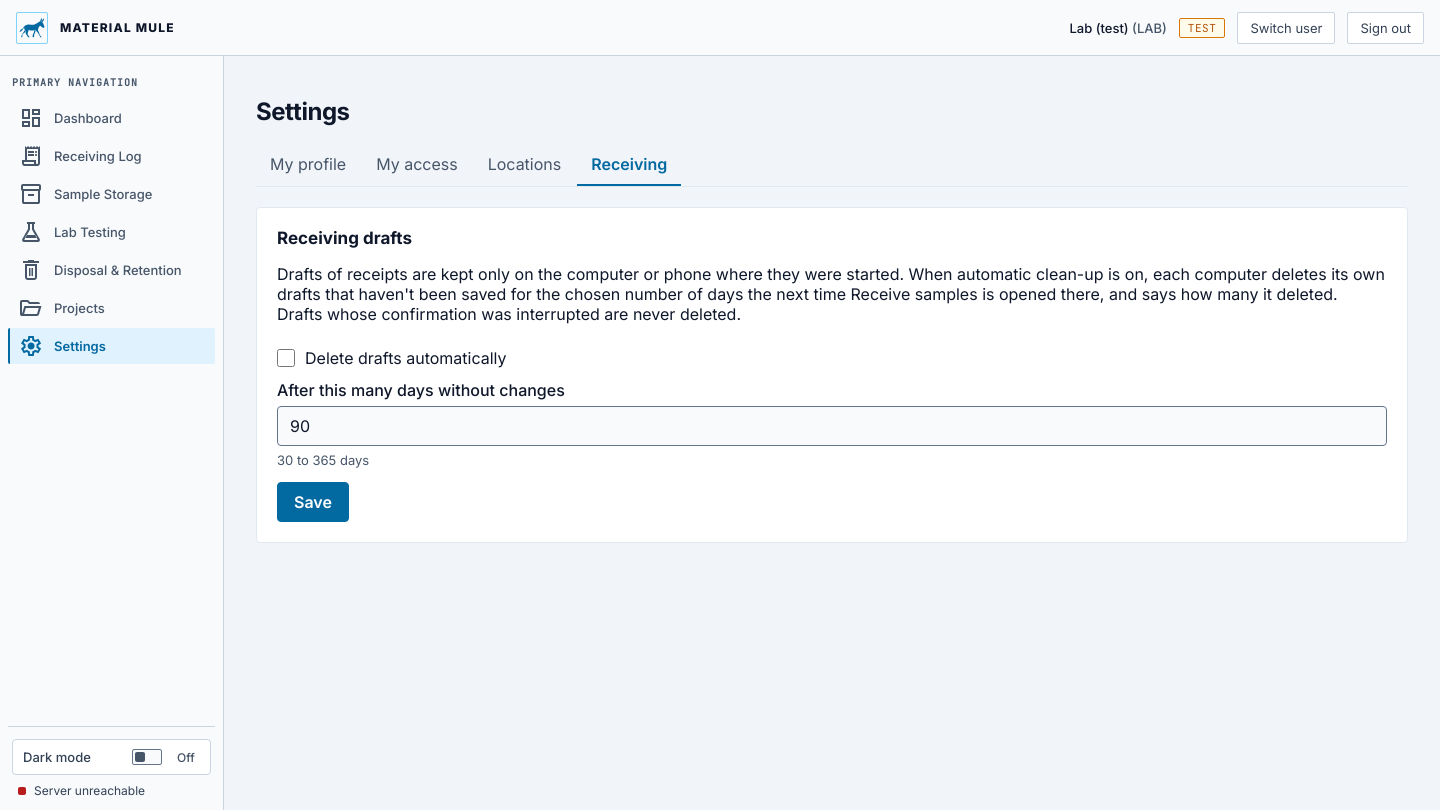
Settings → Receiving (MM-T45) › shows the current setting after someone else changed it
Click the checkbox labelled "Delete drafts automatically": point(286, 358) x1=277 y1=349 x2=295 y2=367
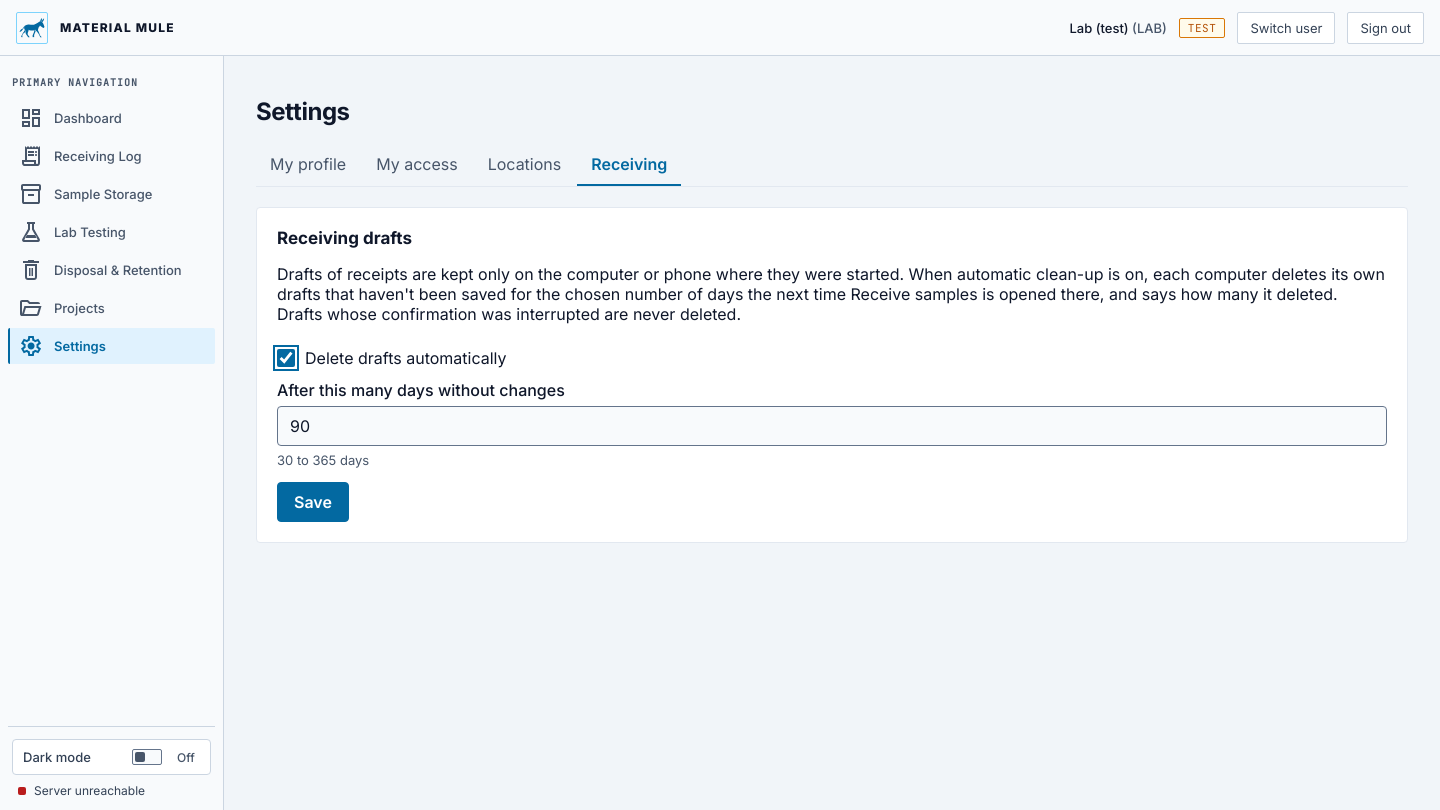
Click the button "Save": point(313, 502) x1=277 y1=482 x2=349 y2=522
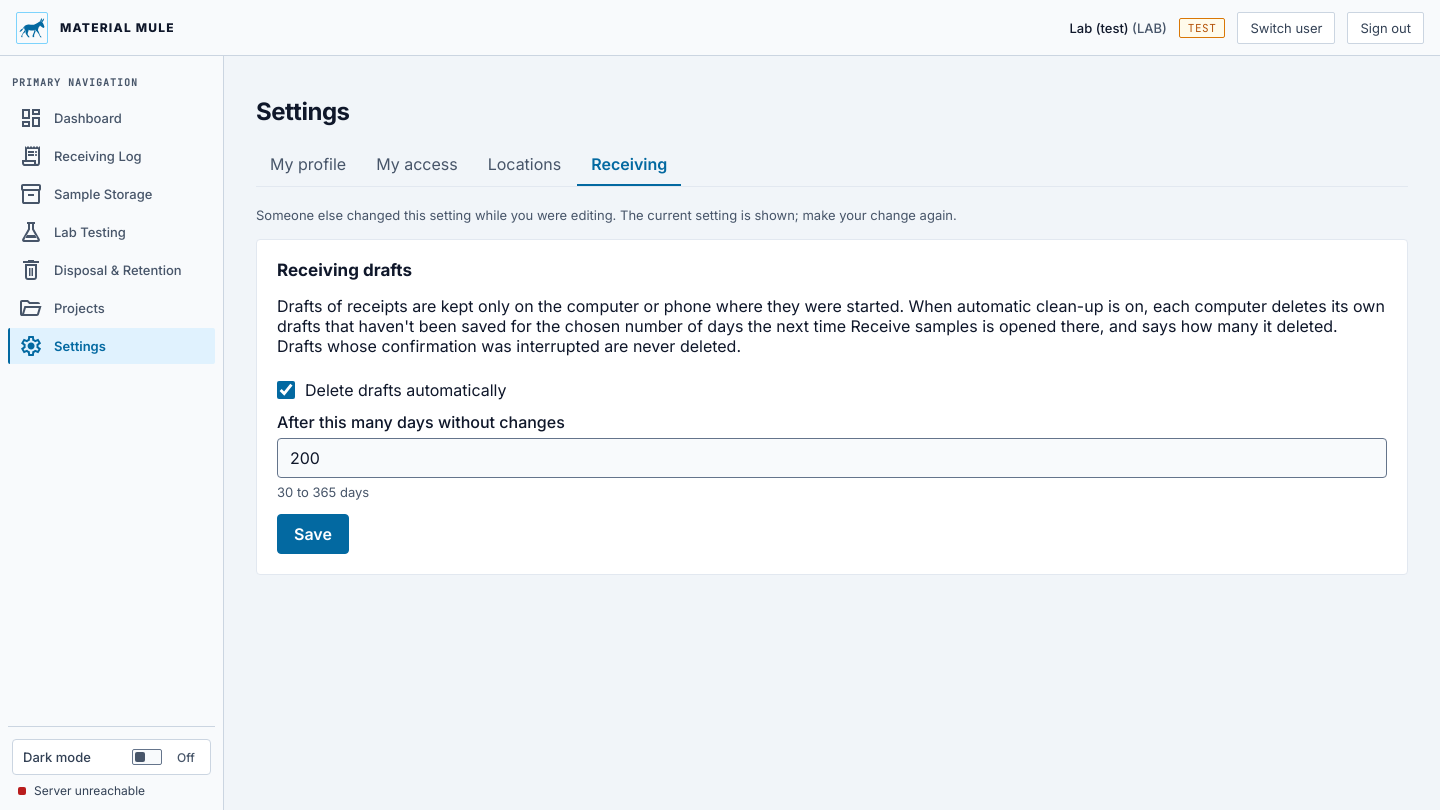
Now the text "Someone else changed this setting while you were editing" is shown, box x1=256 y1=207 x2=957 y2=223
Now the number field labelled "After this many days without changes" holds "200", box x1=277 y1=438 x2=1387 y2=478
